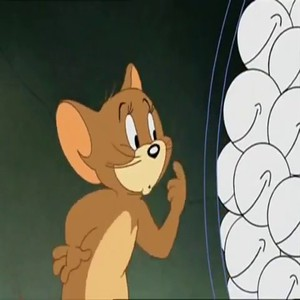Jerry: (48, 58, 189, 299)
